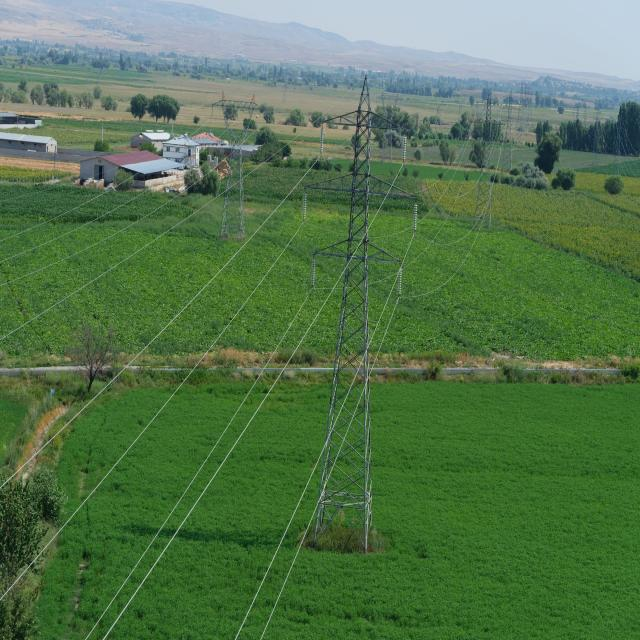direk: (313, 77, 376, 556), (219, 96, 248, 238), (498, 89, 512, 171), (515, 92, 525, 152)
